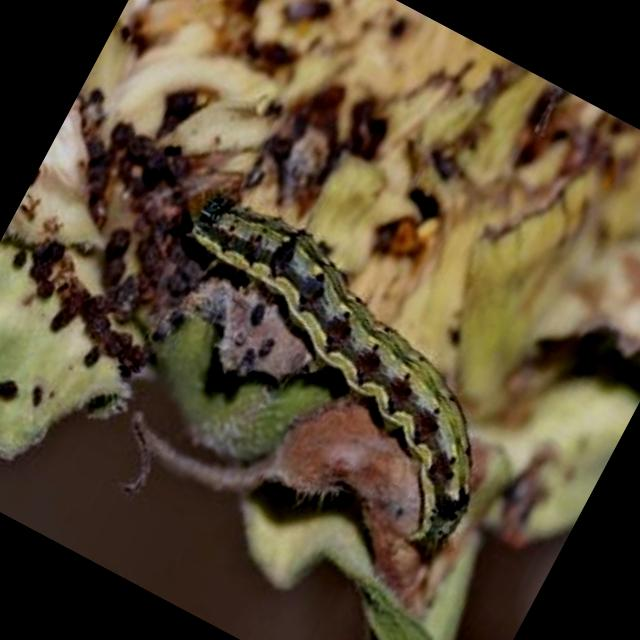Cotton bollworm: (77, 121, 599, 604)
